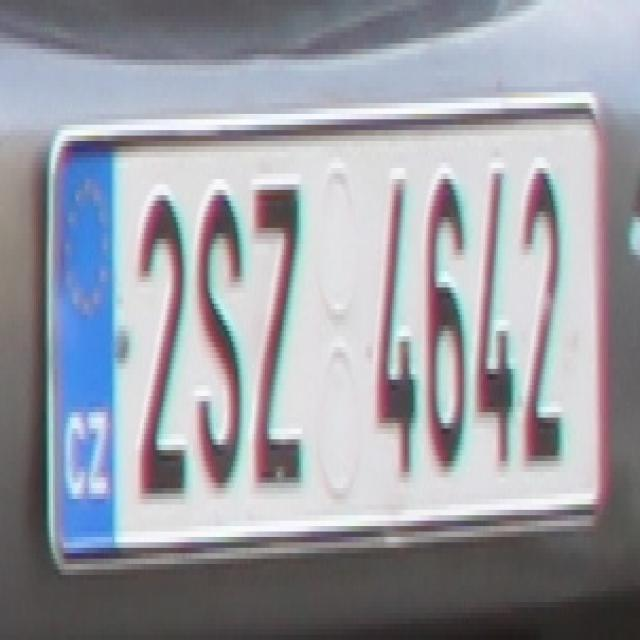2: (136, 195, 187, 494), (521, 157, 566, 461)
4: (370, 168, 418, 483), (474, 163, 516, 472)
6: (426, 168, 468, 467)
S: (196, 184, 242, 488)
Z: (252, 178, 303, 478)
